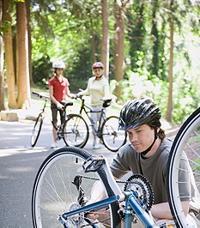person: (86, 100, 200, 227)
